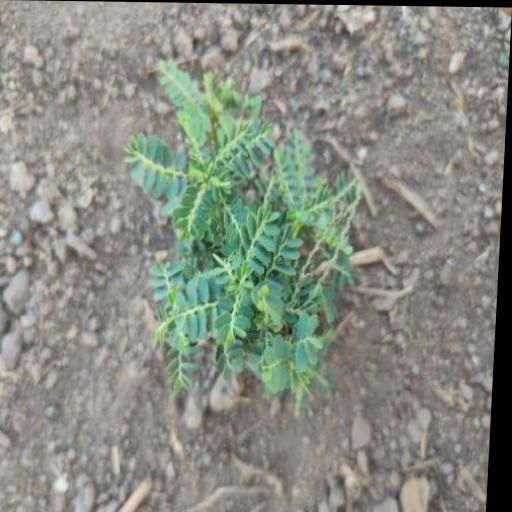weed: (109, 54, 374, 425)
